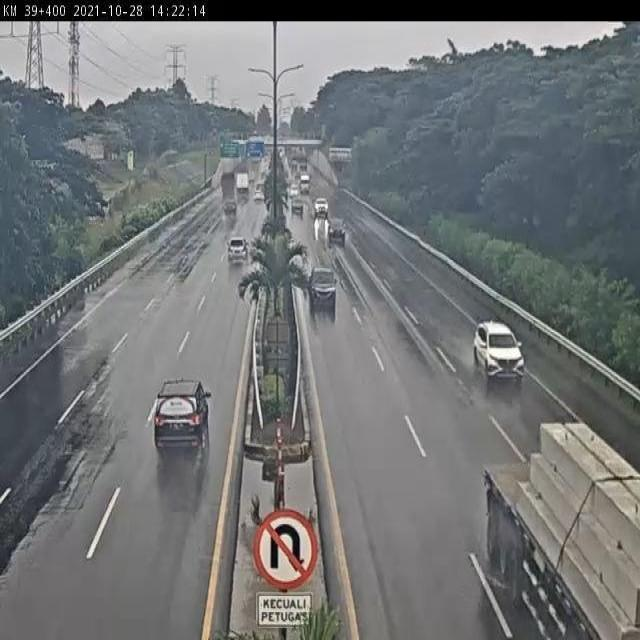Car: (152, 378, 212, 453), (472, 320, 524, 386), (306, 265, 338, 309), (226, 234, 248, 265), (327, 218, 348, 244), (314, 196, 329, 218), (289, 198, 305, 216), (224, 197, 235, 213)
Truck: (482, 421, 640, 640), (220, 170, 236, 199), (235, 170, 249, 194), (299, 174, 312, 194)
